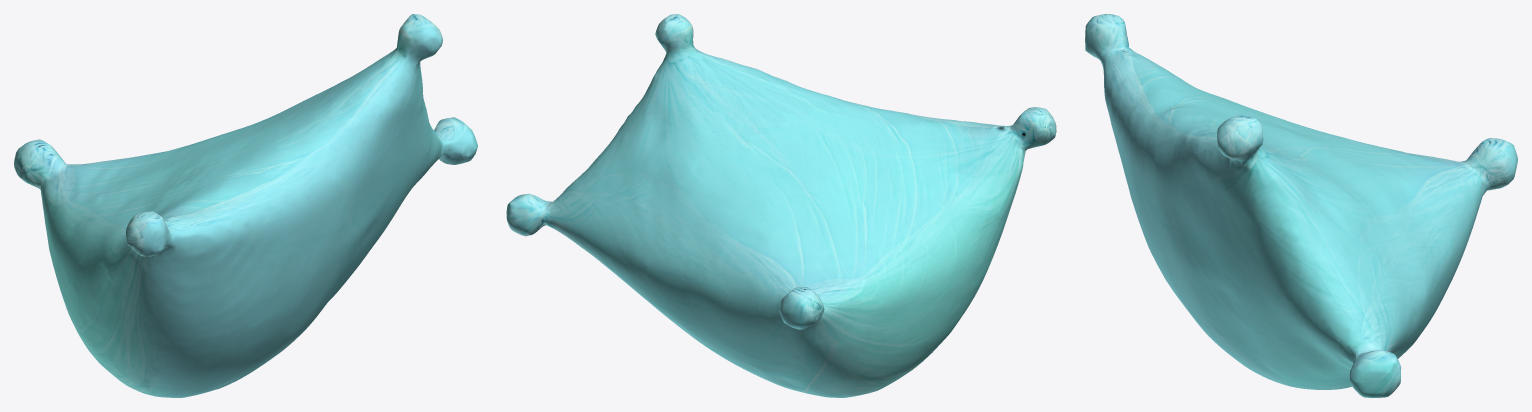
3 renders of one model, left to right at view 1: azimuth 30°, elevation 25°; view 2: azimuth 150°, elevation 25°; view 3: azimuth 270°, elevation 25°, orthographic. The views are drawn at different scales.
Bounding box in the file's own units: 1.2 × 0.8171 × 0.9043.
1 material, 1 textured.
